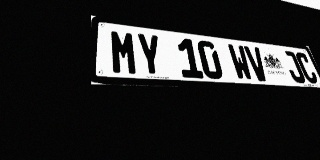0: (196, 40, 224, 79)
1: (176, 37, 204, 78)
C: (294, 52, 319, 84)
J: (281, 50, 307, 83)
M: (110, 29, 139, 75)
V: (243, 46, 270, 81)
W: (227, 44, 254, 81)
Y: (135, 32, 165, 77)
